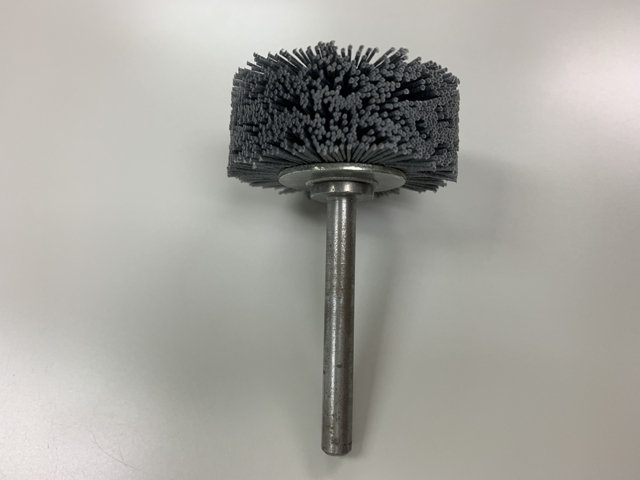Wheel Brush: (226, 38, 458, 458), (223, 31, 474, 306)
